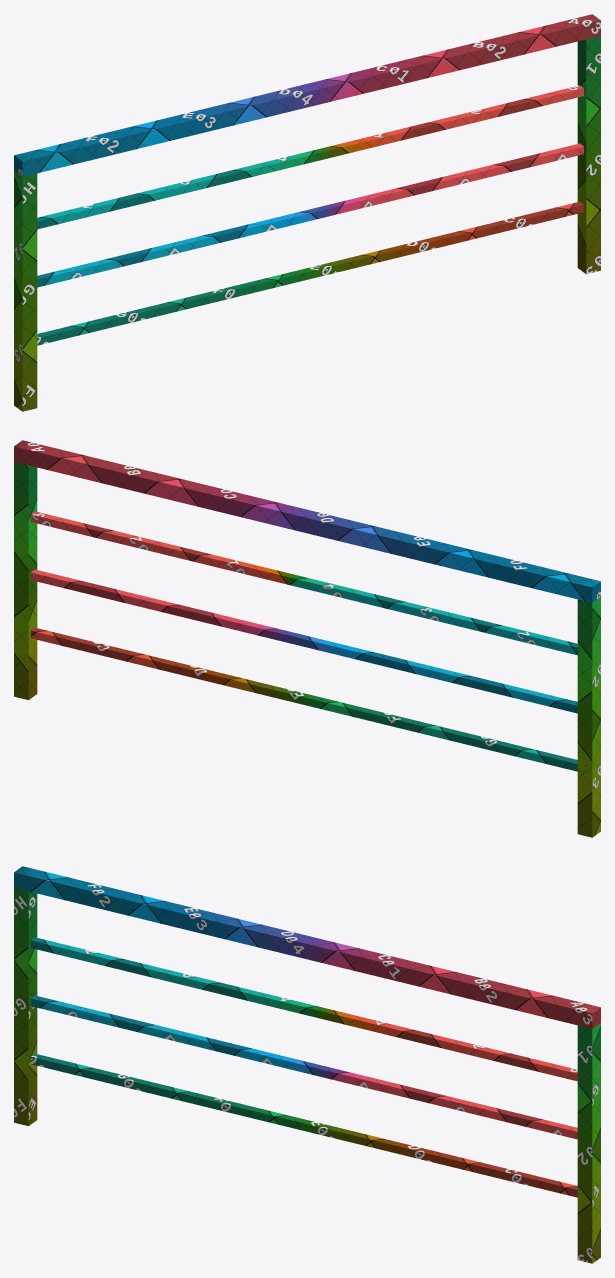
The model's file is SecretRoom_Ramp.fbx.
The picture shows the model from 3 angles, top to bottom: view 1: azimuth 30°, elevation 25°; view 2: azimuth 150°, elevation 25°; view 3: azimuth 330°, elevation 25°; orthographic projection.
Visible parts, largest first — view 1: Rembarde3; view 2: Rembarde3; view 3: Rembarde3.
Boxes of the visible parts, x1=… form: Rembarde3: x1=14, y1=14, x2=600, y2=411; Rembarde3: x1=14, y1=440, x2=600, y2=837; Rembarde3: x1=14, y1=866, x2=600, y2=1263.
Size of the model in its own units: 300 by 124 by 7.65.
